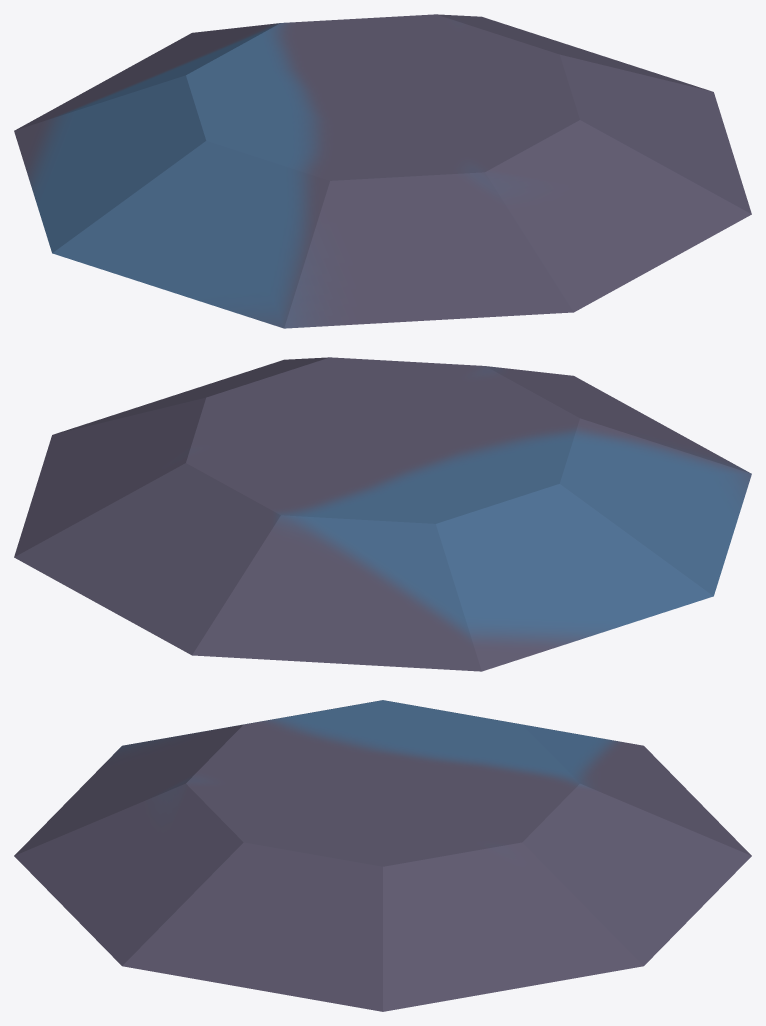
Rendered from shipBody.obj.
The picture shows the model from 3 angles, top to bottom: view 1: azimuth 30°, elevation 25°; view 2: azimuth 150°, elevation 25°; view 3: azimuth 270°, elevation 25°; orthographic projection. The views are drawn at different scales.
Visible parts, largest first — view 1: shipBody_Circle.004; view 2: shipBody_Circle.004; view 3: shipBody_Circle.004.
Boxes of the visible parts, <box> form: shipBody_Circle.004: <box>14,14,751,328</box>; shipBody_Circle.004: <box>14,357,751,671</box>; shipBody_Circle.004: <box>14,700,751,1011</box>.
Size of the model in its own units: 1 by 0.2104 by 1.
